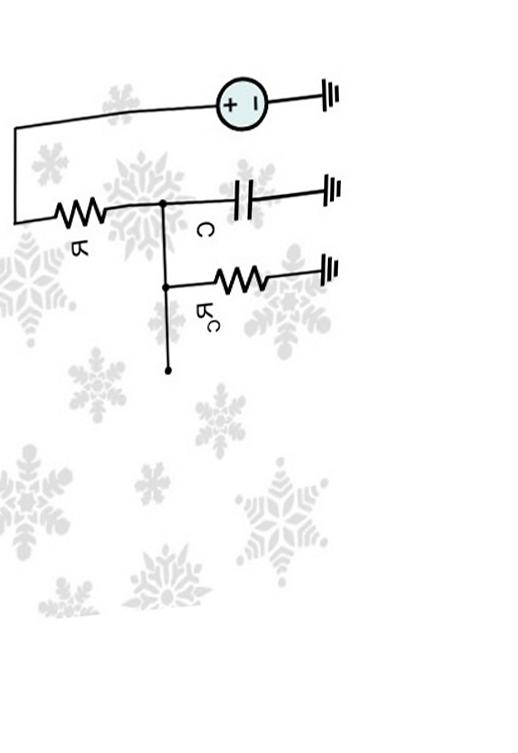Battery: (203, 59, 278, 144)
